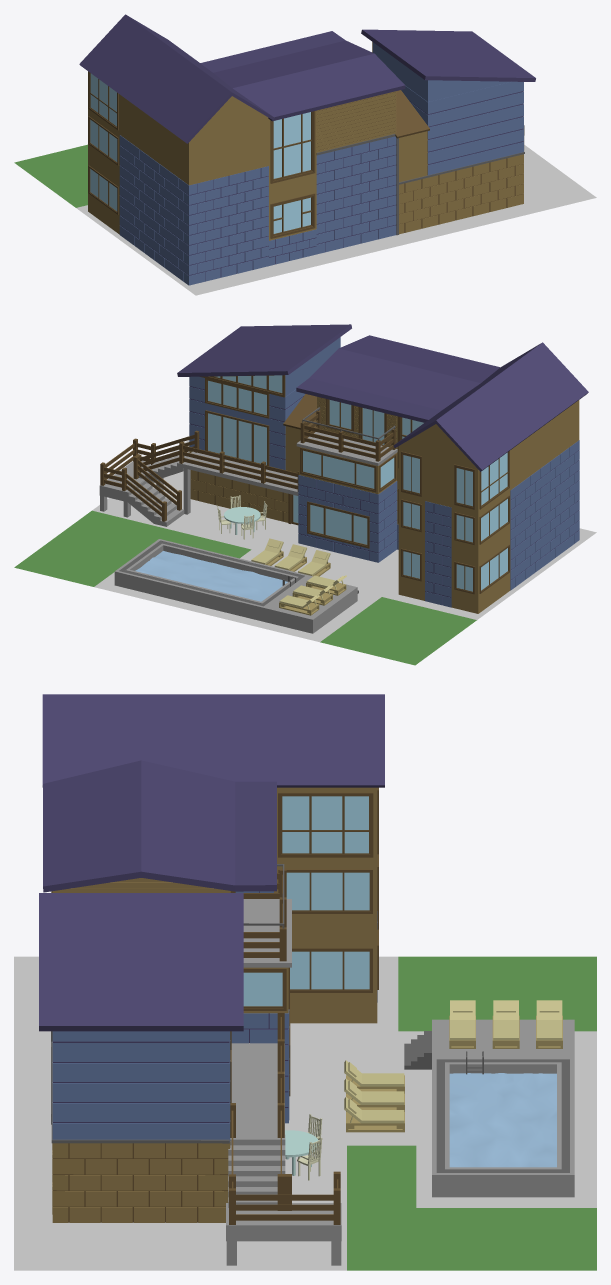
The model's file is hotel-transformed.glb.
3 views of the same model, one above another, from view 1: azimuth 30°, elevation 25°; view 2: azimuth 150°, elevation 25°; view 3: azimuth 270°, elevation 25° (orthographic). The views are drawn at different scales.
Parts seen in each view (by area): view 1: building.059; view 2: building.059; view 3: building.059.
Part boxes in pixels (<box>): building.059: <box>14,14,596,295</box>; building.059: <box>14,324,596,665</box>; building.059: <box>14,694,596,1270</box>.
Size of the model in its own units: 25.25 by 11.19 by 19.77.
Materials: 1 (1 with a texture image).
